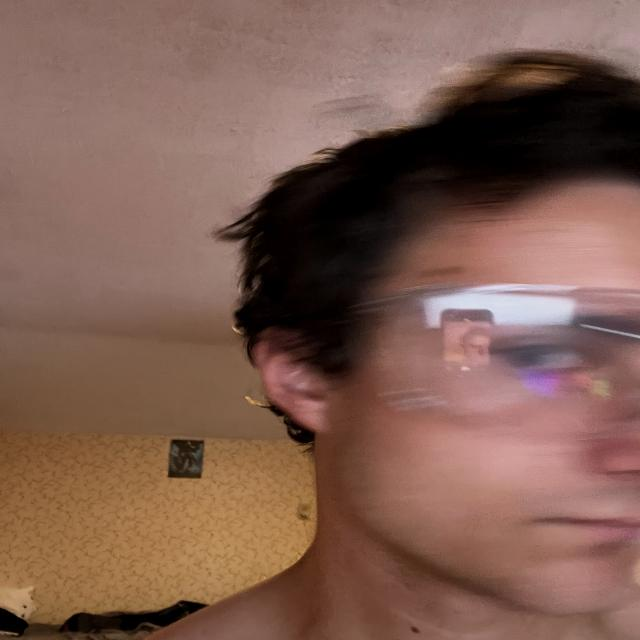Safety Glasses: (313, 268, 640, 427)
